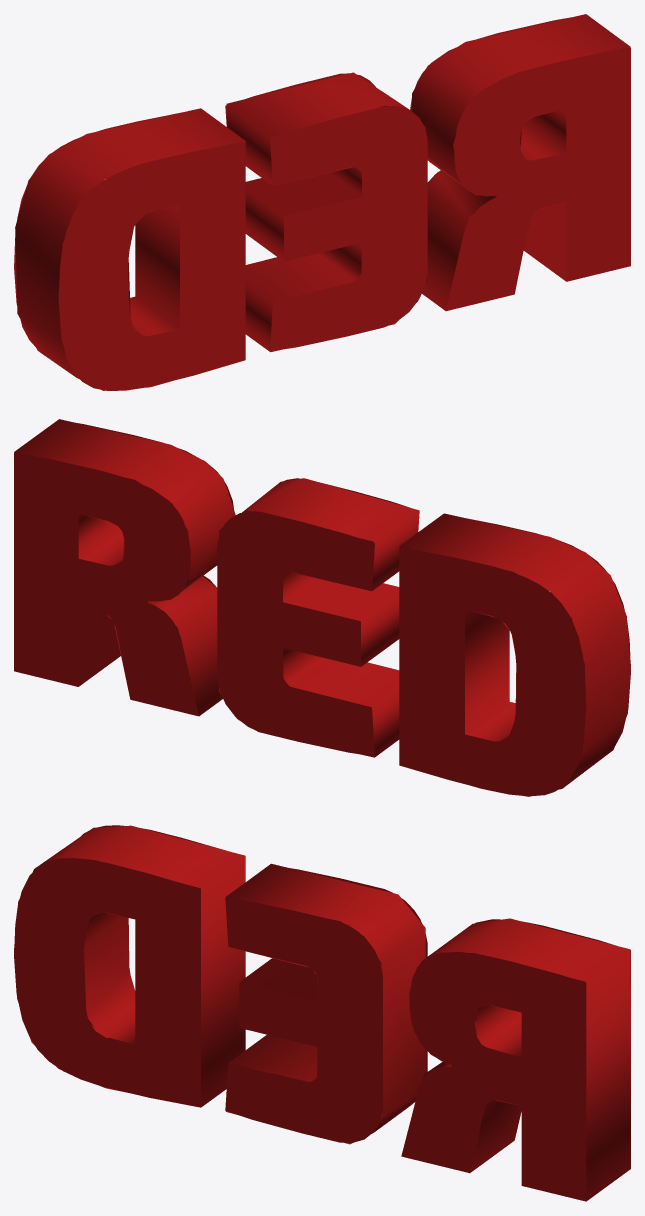
Rendered from red.fbx.
The picture shows the model from 3 angles, top to bottom: view 1: azimuth 30°, elevation 25°; view 2: azimuth 150°, elevation 25°; view 3: azimuth 330°, elevation 25°; orthographic projection.
Visible parts, largest first — view 1: Text; view 2: Text; view 3: Text.
Boxes of the visible parts, x1,y1,x2,y2 form: Text: [14, 14, 630, 390]; Text: [14, 419, 630, 796]; Text: [14, 825, 630, 1201].
Bounding box in the file's own units: 5.92 × 2.23 × 0.8.
